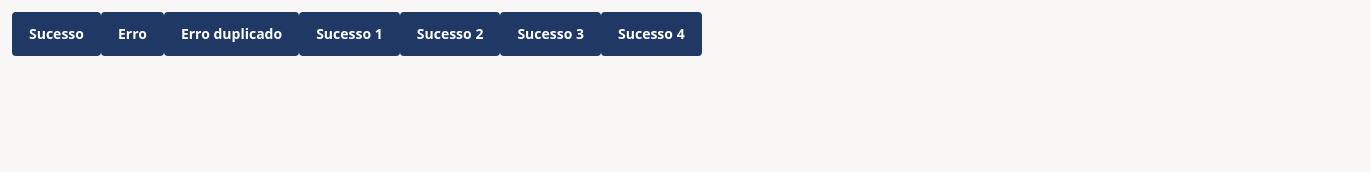
Scenario: announces semantic feedback, deduplicates repeated messages and lets the user dismiss persistent errors
The width and height of the screenshot is (1371, 172).
Click the button "Erro duplicado" at {"x": 232, "y": 34}, box x1=164 y1=12 x2=299 y2=56
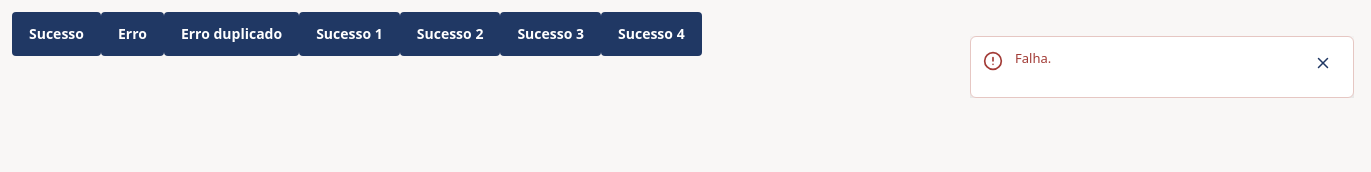
Result: the number of messages is 1 at x1=1015 y1=49 x2=1051 y2=67
Result: the message reads "Falha." at x1=1015 y1=49 x2=1051 y2=67
Click the button named "Fechar notificação" at {"x": 1323, "y": 63}, box x1=1297 y1=41 x2=1349 y2=85
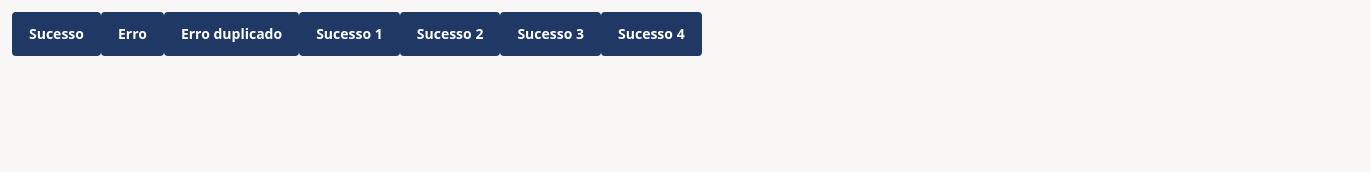
Result: the message "Falha." is gone
Click the button "Sucesso" at {"x": 56, "y": 34}, box x1=12 y1=12 x2=101 y2=56
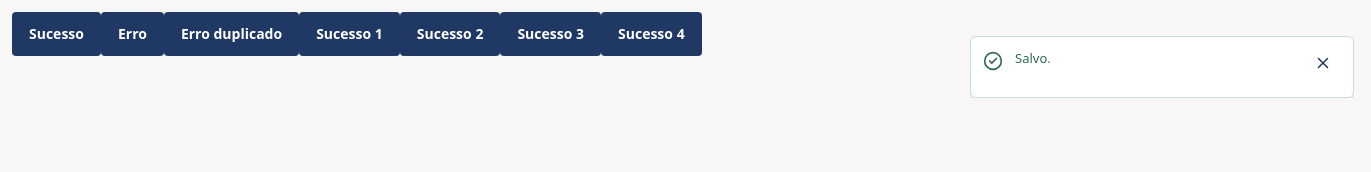
Result: the message reads "Salvo." at x1=1015 y1=49 x2=1051 y2=67
